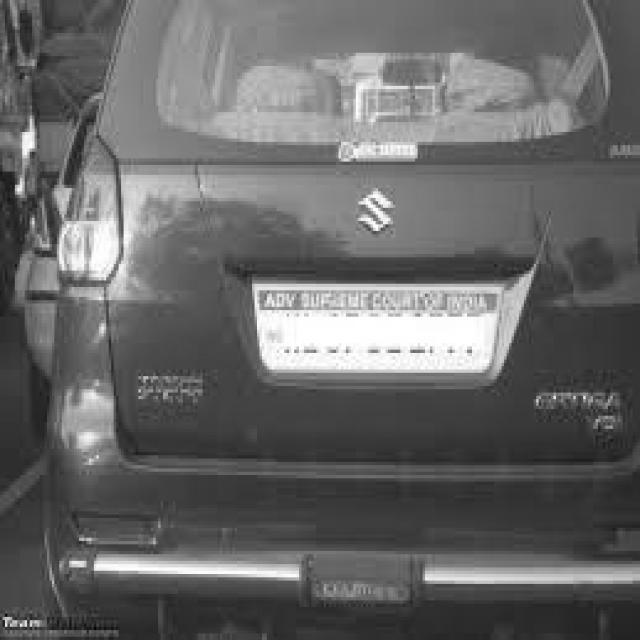car: (49, 0, 640, 640)
